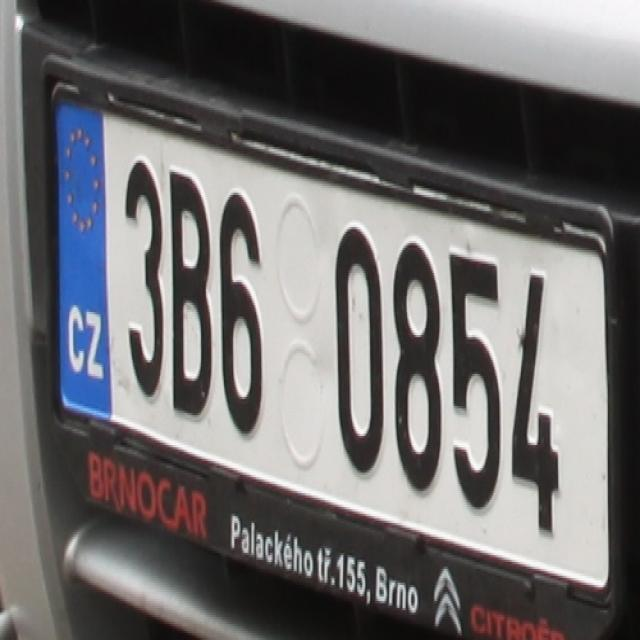0: (333, 220, 385, 480)
3: (124, 156, 165, 395)
4: (507, 268, 563, 530)
5: (447, 245, 503, 514)
6: (218, 190, 265, 440)
8: (392, 230, 446, 488)
B: (168, 168, 211, 415)
